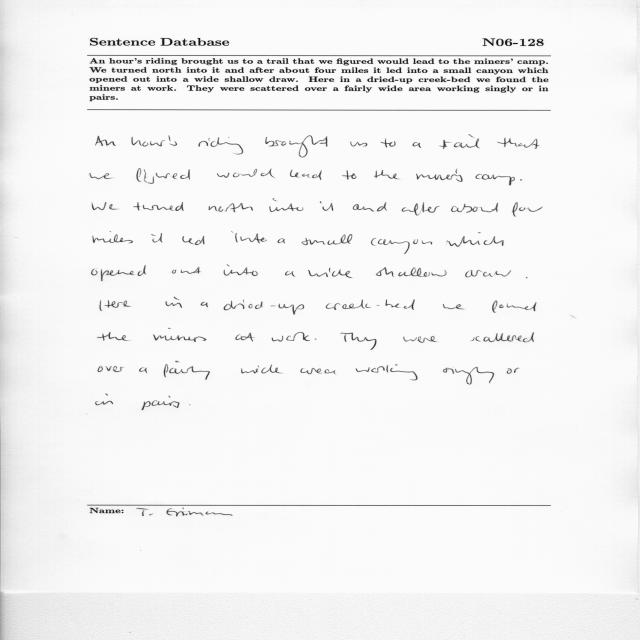word: (266, 136, 328, 158), (224, 300, 304, 315), (325, 299, 415, 310), (371, 238, 432, 254), (356, 365, 417, 381), (416, 168, 482, 182), (164, 361, 210, 380), (443, 367, 494, 384), (136, 168, 190, 184), (92, 266, 146, 282), (447, 232, 504, 247), (198, 137, 243, 154), (153, 328, 207, 342), (376, 267, 447, 277), (341, 332, 377, 350), (471, 333, 534, 343), (492, 300, 537, 313), (439, 135, 480, 149), (302, 234, 353, 245), (132, 135, 177, 147), (402, 202, 440, 216), (217, 169, 275, 178), (498, 137, 540, 149), (93, 231, 133, 243), (451, 203, 498, 213), (231, 231, 267, 244), (512, 202, 543, 217), (133, 202, 184, 211), (270, 199, 304, 212), (308, 268, 352, 278), (223, 264, 258, 276), (482, 174, 515, 186), (209, 203, 253, 212), (272, 332, 310, 342), (142, 401, 180, 411), (241, 365, 283, 374), (100, 300, 131, 311), (465, 270, 511, 277), (290, 170, 322, 180), (353, 203, 387, 212), (97, 332, 129, 341), (403, 336, 437, 343), (374, 170, 399, 179), (300, 368, 336, 374), (95, 136, 116, 146), (92, 202, 118, 210), (172, 267, 201, 274), (183, 236, 205, 245), (165, 297, 182, 308), (96, 394, 113, 405), (235, 333, 255, 341), (98, 366, 124, 372), (342, 170, 357, 180), (381, 139, 396, 148), (90, 173, 112, 179), (320, 201, 333, 211), (151, 233, 162, 243), (443, 304, 464, 309), (351, 141, 368, 147), (507, 368, 519, 374), (285, 271, 295, 277), (412, 142, 421, 148), (139, 367, 147, 373), (278, 238, 285, 244), (201, 302, 208, 308), (520, 179, 522, 181), (526, 277, 528, 278), (315, 339, 317, 340), (169, 396, 170, 398)
